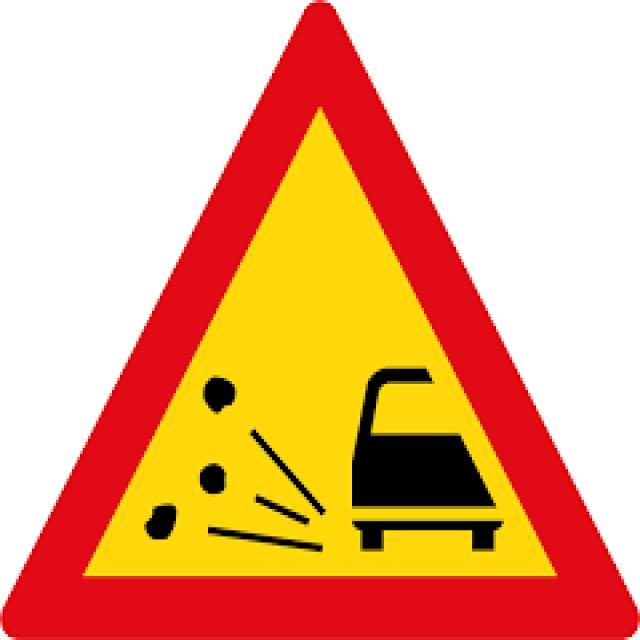loose gravel: (20, 25, 603, 626)
